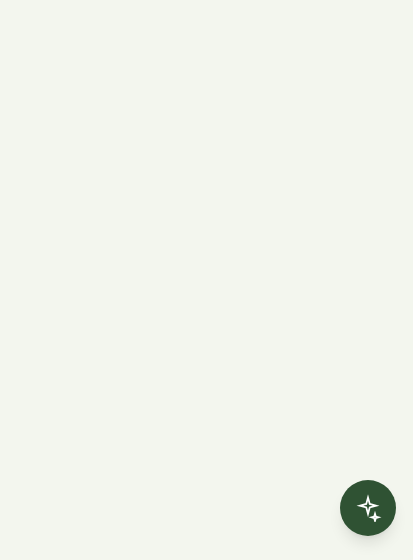
Test case: member reopens saved conversation with authenticated history
The width and height of the screenshot is (413, 560).
Click the button with id "chat-fab" at (368, 508), box top-left (340, 480), bottom-right (396, 536)
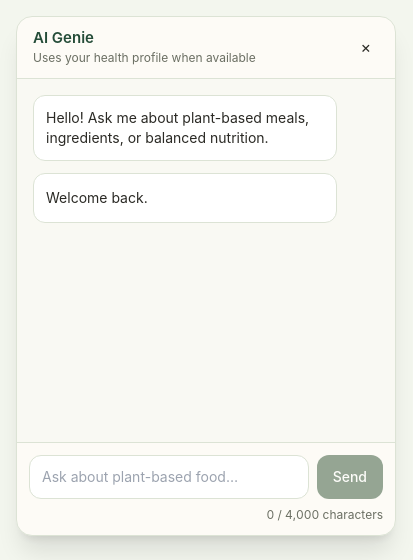
Now the text "Welcome back." is shown, box top-left (46, 189), bottom-right (148, 206)
Now the text "Uses your health profile when available" is shown, box top-left (33, 50), bottom-right (256, 66)
